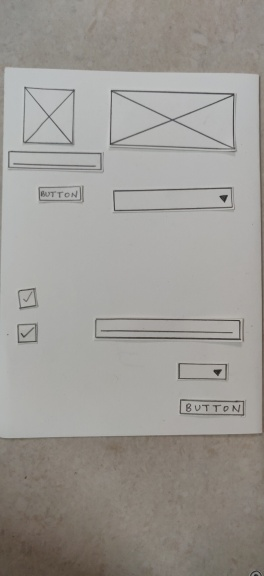button: (174, 395, 248, 420), (35, 182, 87, 206)
checkbox: (14, 285, 41, 313), (14, 319, 40, 347)
dropdown: (108, 185, 235, 214), (174, 358, 231, 385)
img: (106, 87, 239, 152), (19, 83, 78, 146)
text: (90, 315, 245, 346), (4, 147, 105, 175)
